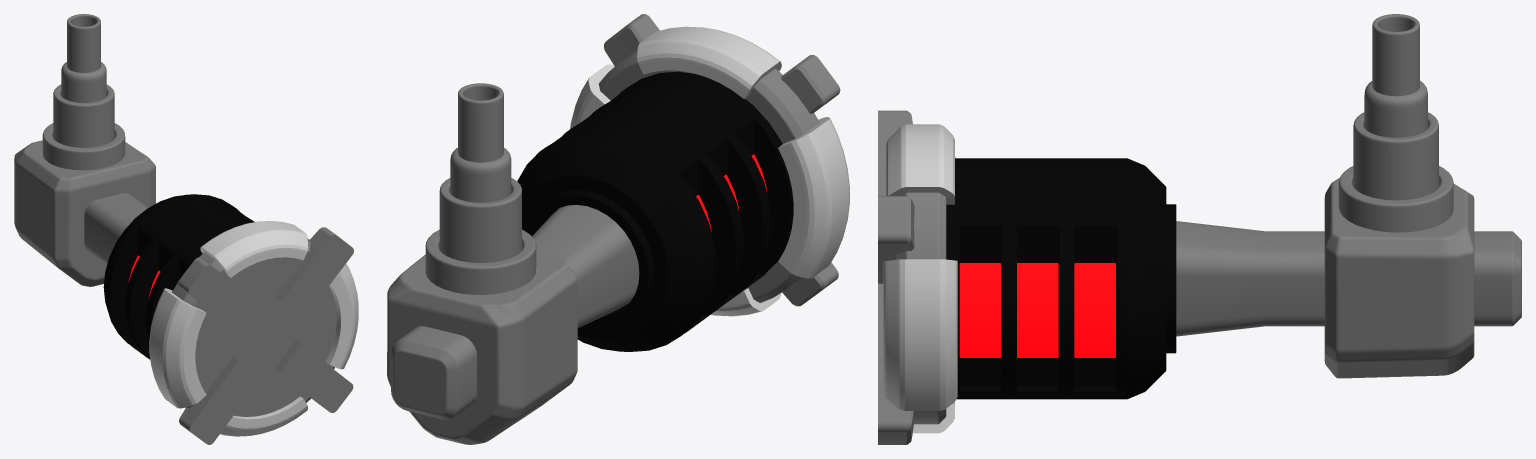
The model's file is LaserShooterFixed.fbx.
The picture shows the model from 3 angles, left to right: view 1: azimuth 30°, elevation 25°; view 2: azimuth 150°, elevation 25°; view 3: azimuth 270°, elevation 25°; orthographic projection. The views are drawn at different scales.
Parts seen in each view (by area): view 1: Cylinder.002, Cylinder.005, Cube.004, Cylinder.008, Cylinder.004, Cube.007, Cube.011, Cylinder.006_Plate.001, Cube.012, Cube.008, Cube.003, Cylinder.006_Plate.002 (+2 smaller); view 2: Cylinder.005, Cube.004, Cube.003, Cylinder.008, Cylinder.004, Cylinder.006_Plate.001, Cylinder.002, Cylinder.006_Plate.002, Cylinder.006_Plate, Cylinder.006, Cube.012, Cube.007 (+1 smaller); view 3: Cylinder.005, Cube.004, Cube.003, Cylinder.007, Cylinder.008, Cylinder.006_Plate.001, Cylinder.004, Cylinder.006_Plate.002, Cylinder.006_Plate, Cylinder.002, Cylinder.006, Cube.007 (+2 smaller).
Part boxes in pixels (box(x1,y1,x2,y2)): Cylinder.002: box(172, 238, 336, 416); Cylinder.005: box(103, 194, 254, 359); Cube.004: box(14, 140, 155, 286); Cylinder.008: box(149, 263, 358, 408); Cylinder.004: box(200, 221, 308, 436); Cube.007: box(275, 227, 353, 318); Cube.011: box(179, 356, 261, 444); Cylinder.006_Plate.001: box(53, 84, 114, 147); Cube.012: box(178, 257, 262, 332); Cube.008: box(274, 340, 353, 412); Cube.003: box(84, 193, 148, 264); Cylinder.006_Plate.002: box(42, 123, 125, 170); Cylinder.005: box(517, 71, 793, 351); Cube.004: box(387, 253, 577, 444); Cube.003: box(391, 205, 639, 419); Cylinder.008: box(570, 64, 849, 278); Cylinder.004: box(637, 26, 781, 316); Cylinder.006_Plate.001: box(439, 178, 521, 262); Cylinder.002: box(598, 50, 819, 302); Cylinder.006_Plate.002: box(425, 229, 536, 294); Cylinder.006_Plate: box(458, 83, 503, 162); Cylinder.006: box(450, 148, 511, 202); Cube.012: box(781, 55, 840, 113); Cube.007: box(604, 14, 659, 66); Cylinder.005: box(946, 158, 1176, 399); Cube.004: box(1324, 178, 1474, 378); Cube.003: box(1176, 221, 1521, 336); Cylinder.007: box(959, 263, 1115, 357); Cylinder.008: box(883, 156, 957, 410); Cylinder.006_Plate.001: box(1353, 112, 1438, 200); Cylinder.004: box(886, 124, 954, 433); Cylinder.006_Plate.002: box(1338, 166, 1453, 232); Cylinder.006_Plate: box(1372, 14, 1419, 96); Cylinder.002: box(895, 192, 946, 424); Cylinder.006: box(1364, 81, 1427, 137); Cube.007: box(878, 196, 914, 283).
Size of the model in its own units: 1248 by 1732 by 2555.
